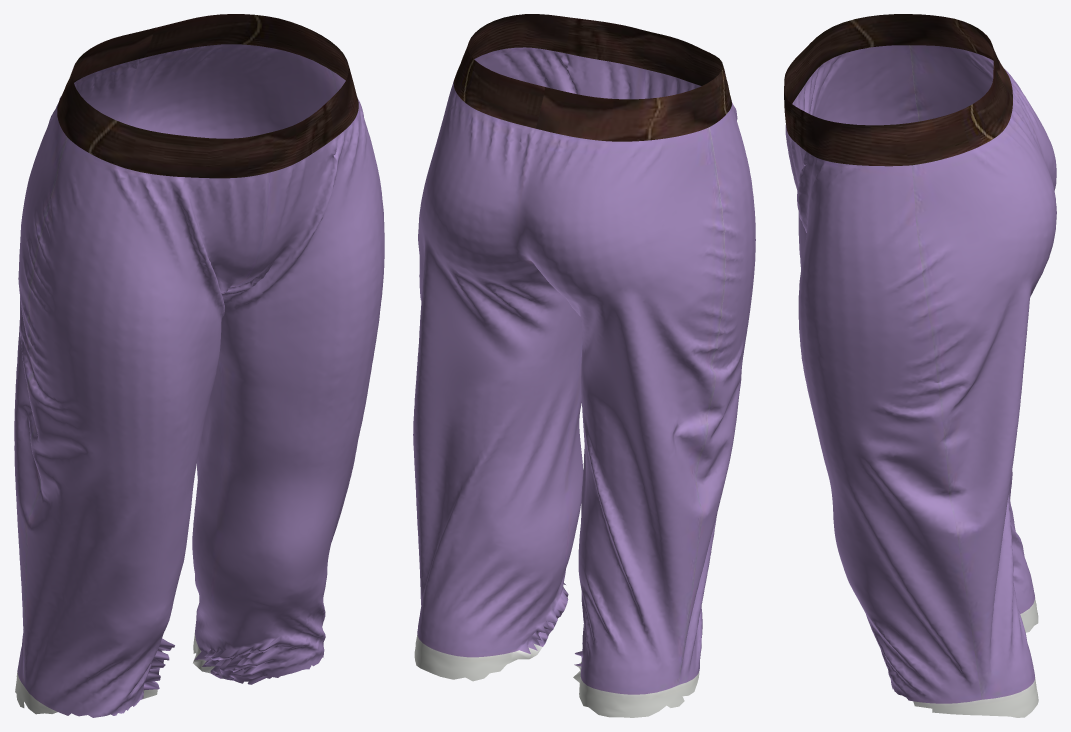
The model's file is female_purple_trouser_38.glb.
3 renders of one model, left to right at view 1: azimuth 30°, elevation 25°; view 2: azimuth 150°, elevation 25°; view 3: azimuth 270°, elevation 25°, orthographic. The views are drawn at different scales.
Visible parts, largest first — view 1: casual_trousers_2_woman_ref.001; view 2: casual_trousers_2_woman_ref.001; view 3: casual_trousers_2_woman_ref.001.
Boxes of the visible parts, x1,y1,x2,y2 form: casual_trousers_2_woman_ref.001: (14,14,384,717); casual_trousers_2_woman_ref.001: (413,14,755,717); casual_trousers_2_woman_ref.001: (784,14,1056,717).
Size of the model in its own units: 0.4826 by 0.92 by 0.38.
6 materials, 6 textured.
